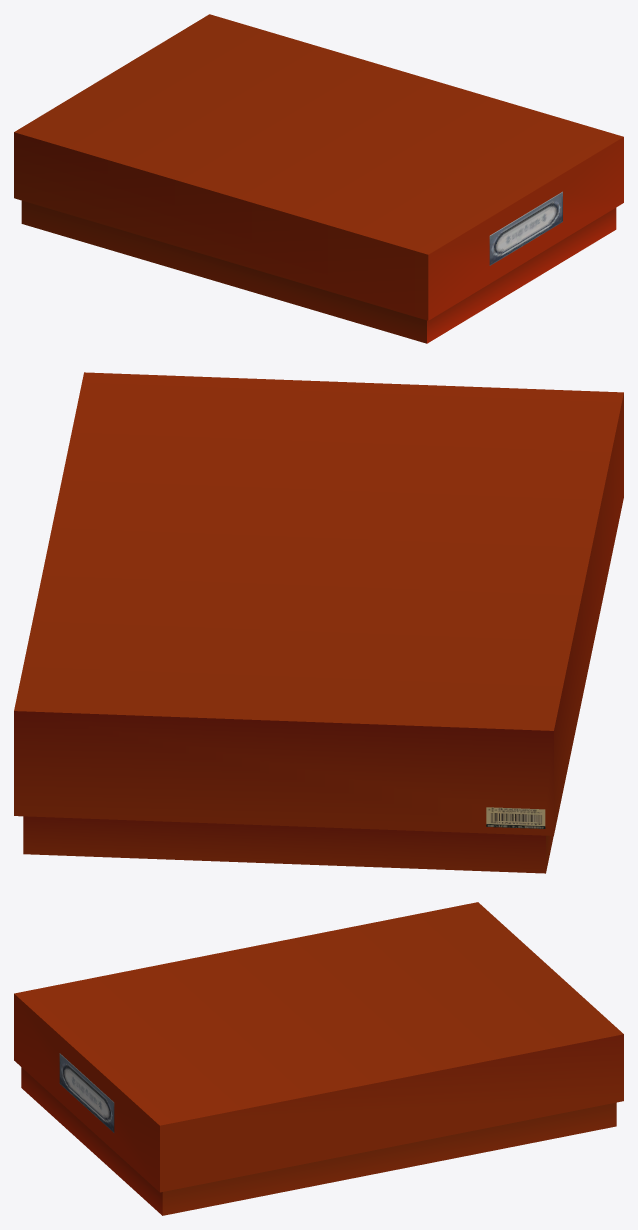
3 views of the same model, one above another, from view 1: azimuth 30°, elevation 25°; view 2: azimuth 150°, elevation 25°; view 3: azimuth 270°, elevation 25° (orthographic). The views are drawn at different scales.
Parts seen in each view (by area): view 1: Joint_0_Object_0, Joint_0_Object_1; view 2: Joint_0_Object_0, Joint_0_Object_1; view 3: Joint_0_Object_0, Joint_0_Object_1.
Boxes of the visible parts, x1,y1,x2,y2 form: Joint_0_Object_0: (14,14,623,343); Joint_0_Object_1: (489,191,562,265); Joint_0_Object_0: (14,372,623,873); Joint_0_Object_1: (486,807,545,828); Joint_0_Object_0: (14,902,623,1215); Joint_0_Object_1: (59,1053,114,1132).
Size of the model in its own units: 951 by 185 by 1096.
Materials: 2 (1 with a texture image).
